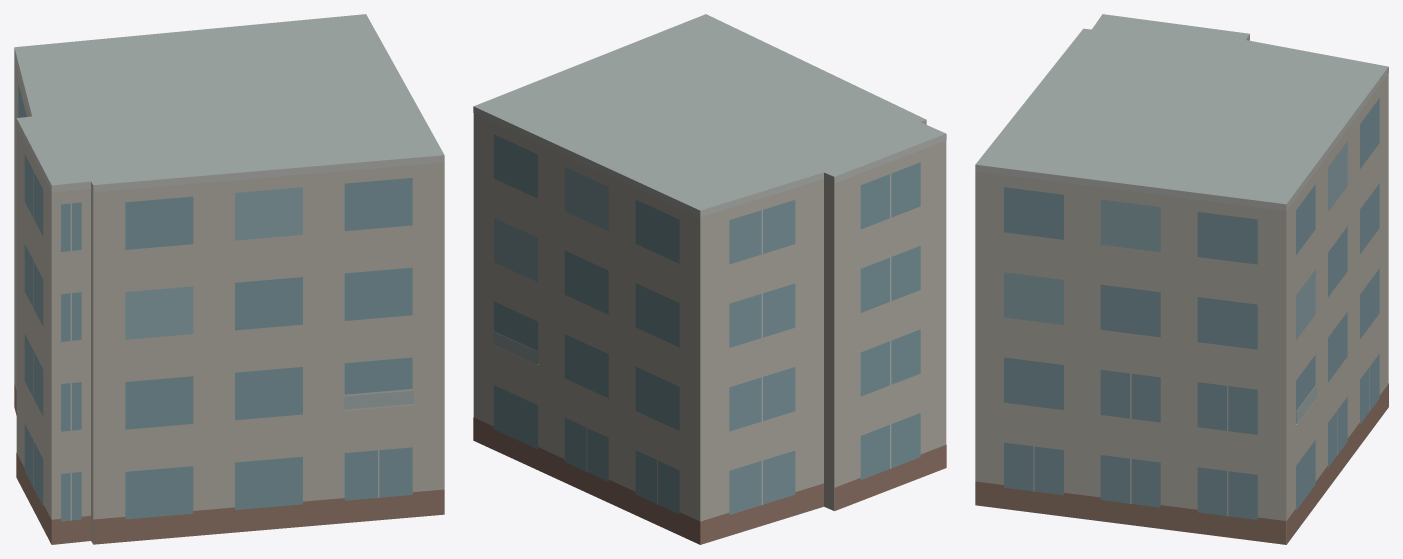
Rendered from survey-upis-32811917.glb.
3 renders of one model, left to right at view 1: azimuth 30°, elevation 25°; view 2: azimuth 150°, elevation 25°; view 3: azimuth 270°, elevation 25°, orthographic. The views are drawn at different scales.
Visible parts, largest first — view 1: survey-upis-32811917.tmp; view 2: survey-upis-32811917.tmp; view 3: survey-upis-32811917.tmp.
Boxes of the visible parts, x1,y1,x2,y2 form: survey-upis-32811917.tmp: [14, 14, 444, 544]; survey-upis-32811917.tmp: [473, 14, 946, 544]; survey-upis-32811917.tmp: [975, 14, 1388, 544].
Bounding box in the file's own units: 14.63 × 12.2 × 13.43.
